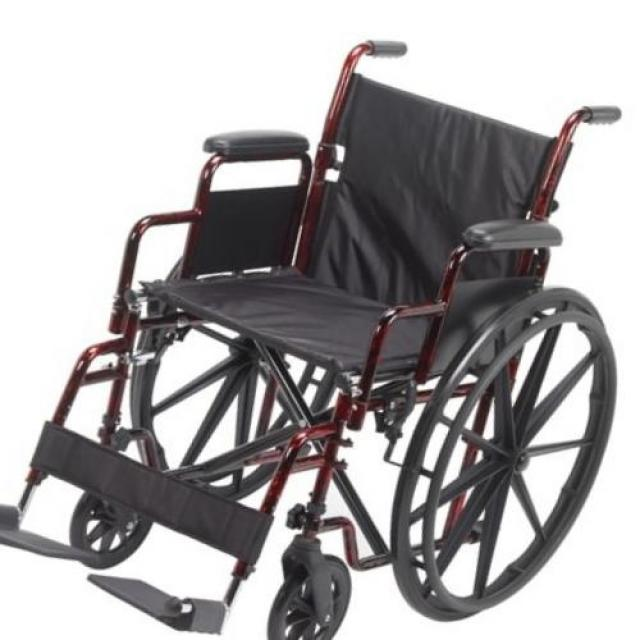wheelchair: (0, 29, 640, 639)
